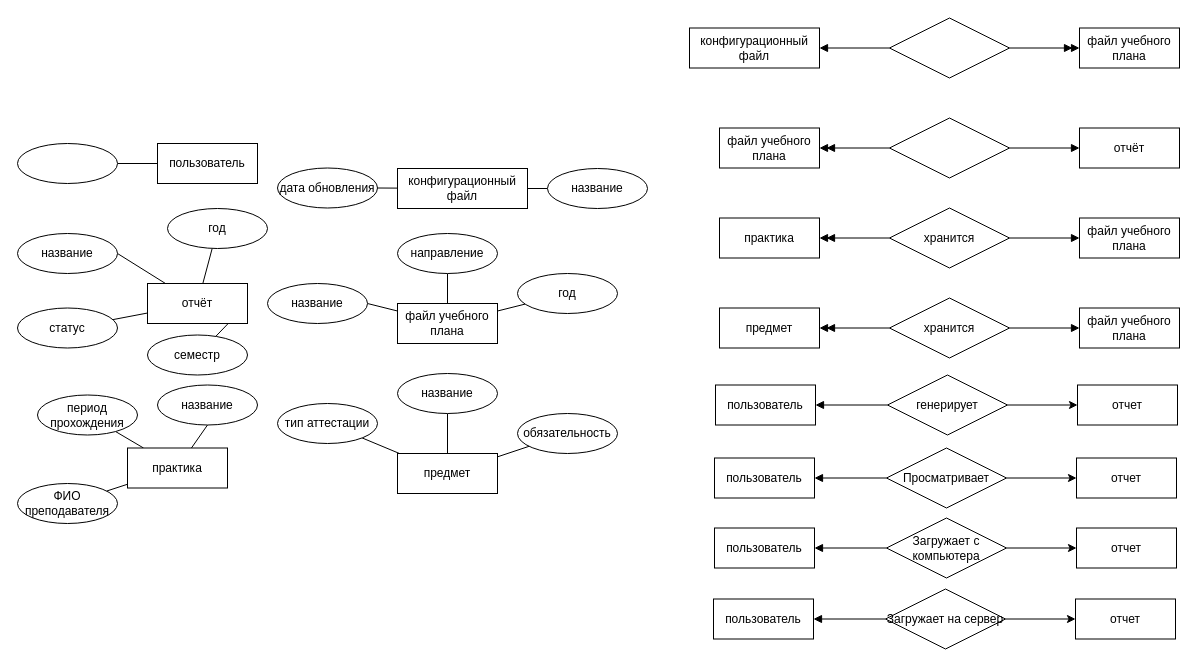
Some shapes in this 1197 by 666 pixel diagram are drawn without their labels. Each missing label, with the centre of its shape:
"содержит пути" goes at (949,47).
"составляет" goes at (949,147).
"статус авторизации" goes at (67,163).
